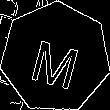M_N: (27, 27, 84, 88)
